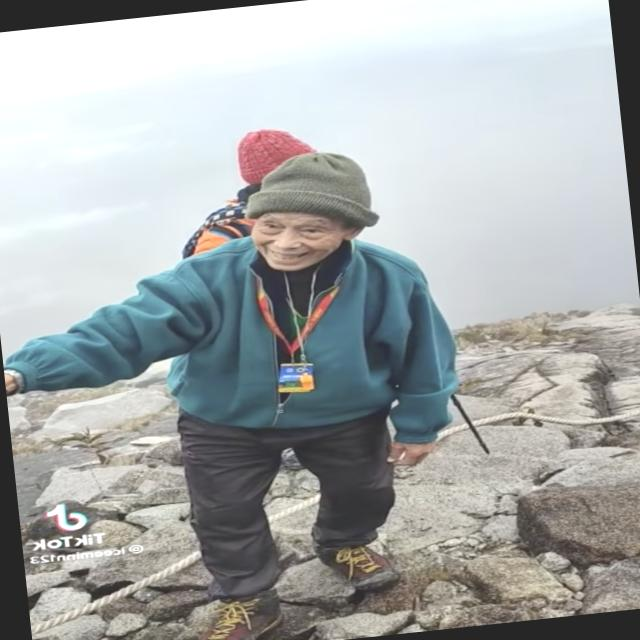Person: (0, 101, 508, 640)
